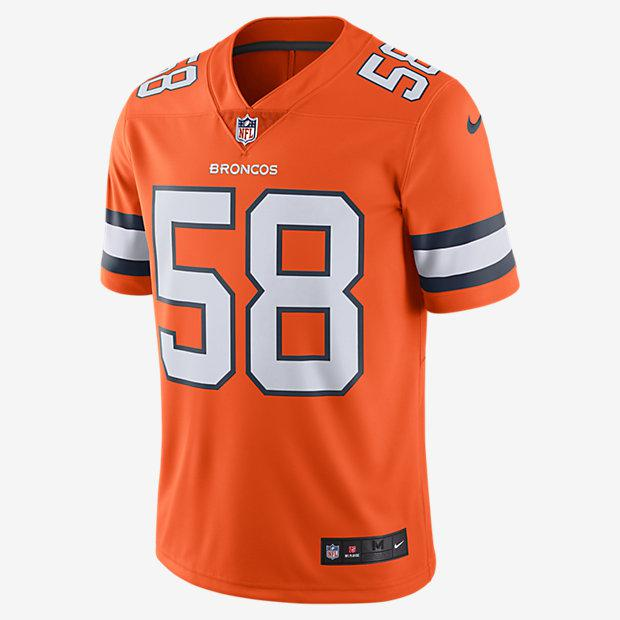teeshirt: (77, 6, 521, 620)
